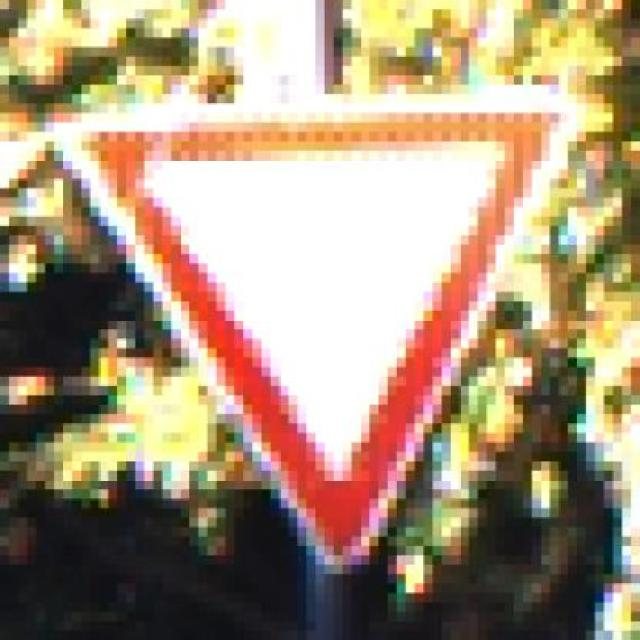Give Way: (36, 85, 586, 603)
